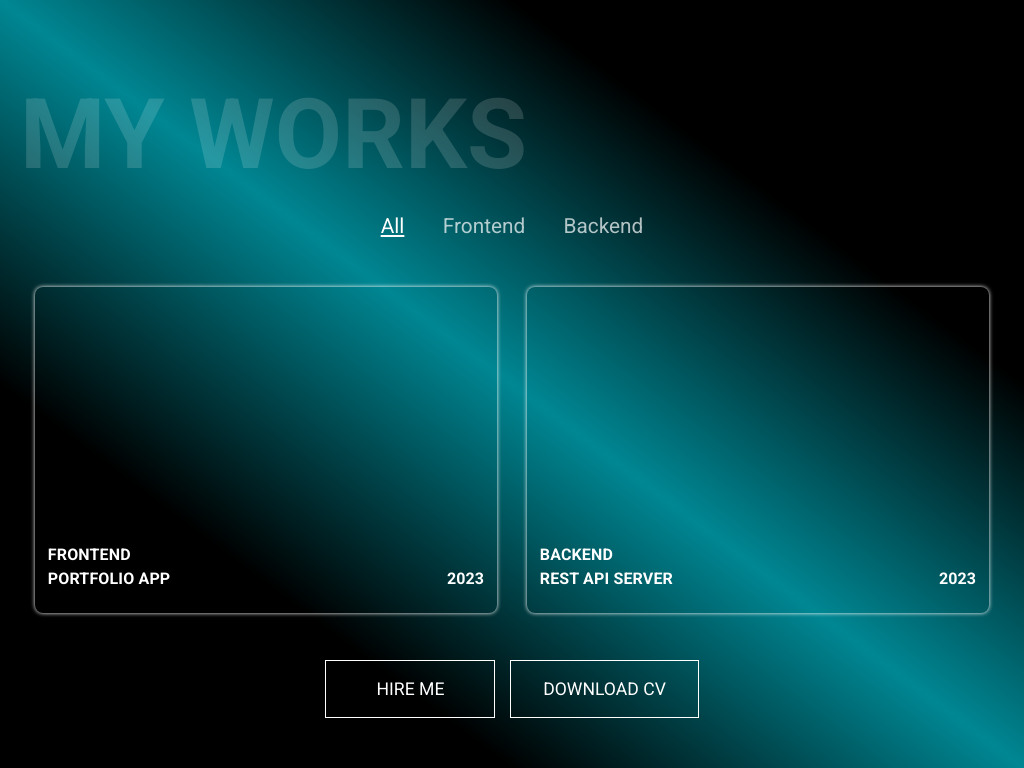
it: Works — integration tests › Hire Me button → ModalHireMe › closes ModalHireMe via X button
The width and height of the screenshot is (1024, 768).
Click the button "Hire Me".
click(410, 689)  # box x1=326 y1=660 x2=496 y2=718
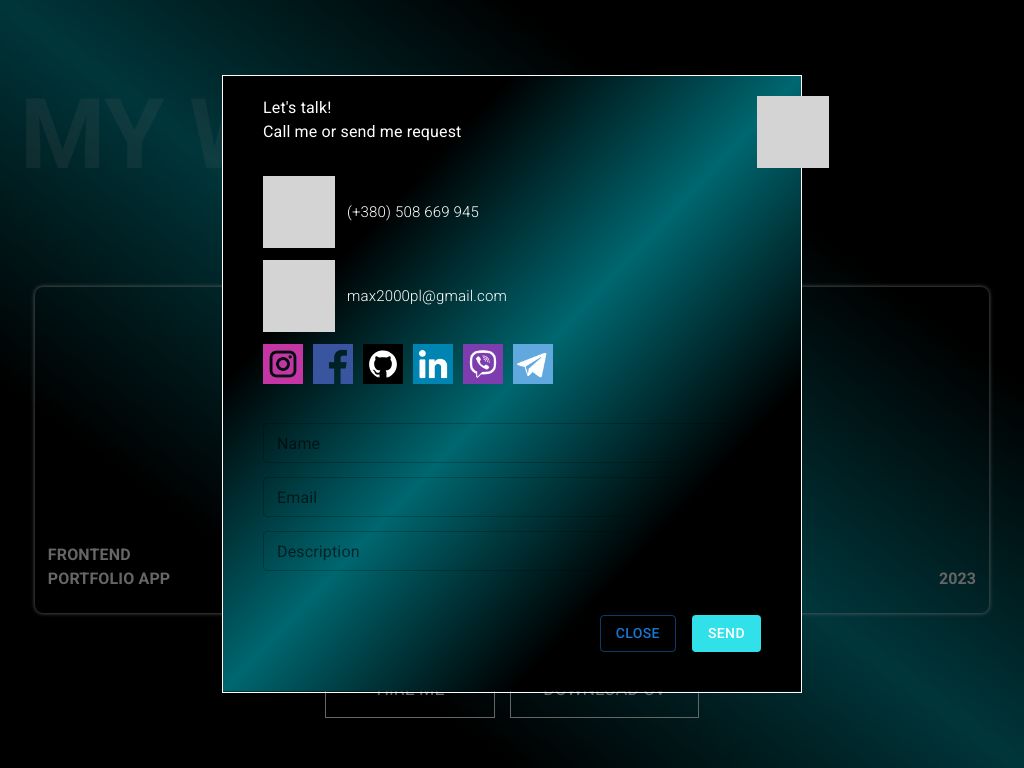
Result: the text "Let's talk!" is shown at x1=263 y1=98 x2=332 y2=118
Note: X-button (ButtonModalClose)
Click the button named "Close".
click(769, 111)  # box x1=757 y1=96 x2=781 y2=126
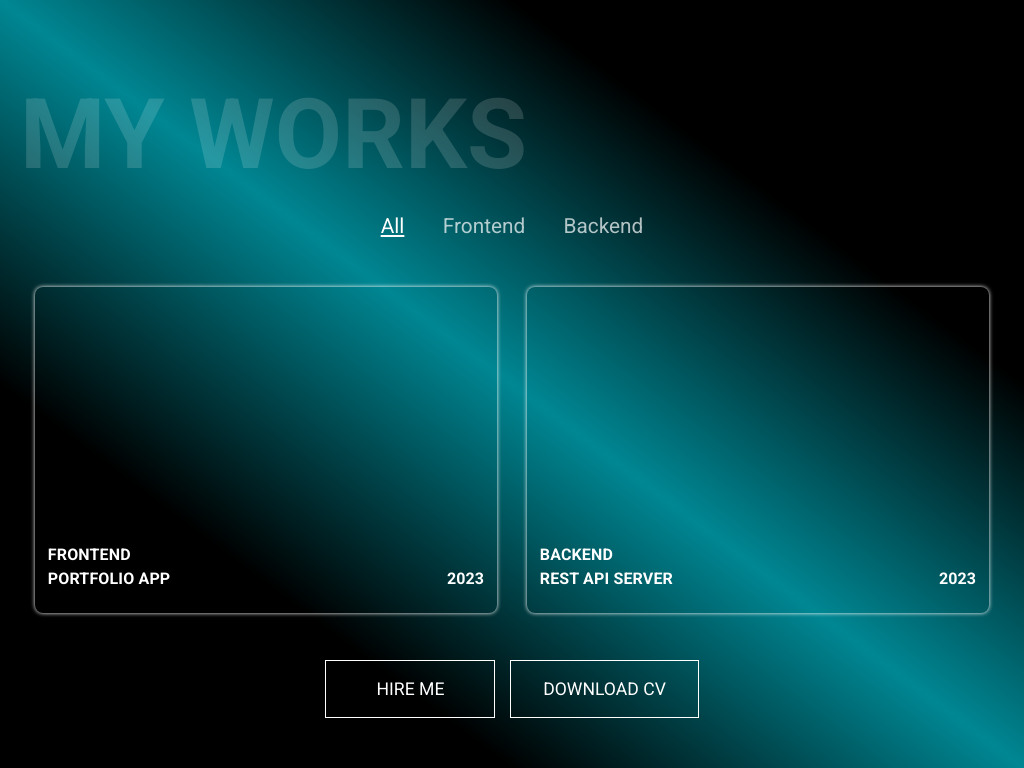
Result: the text "Let's talk!" is gone
